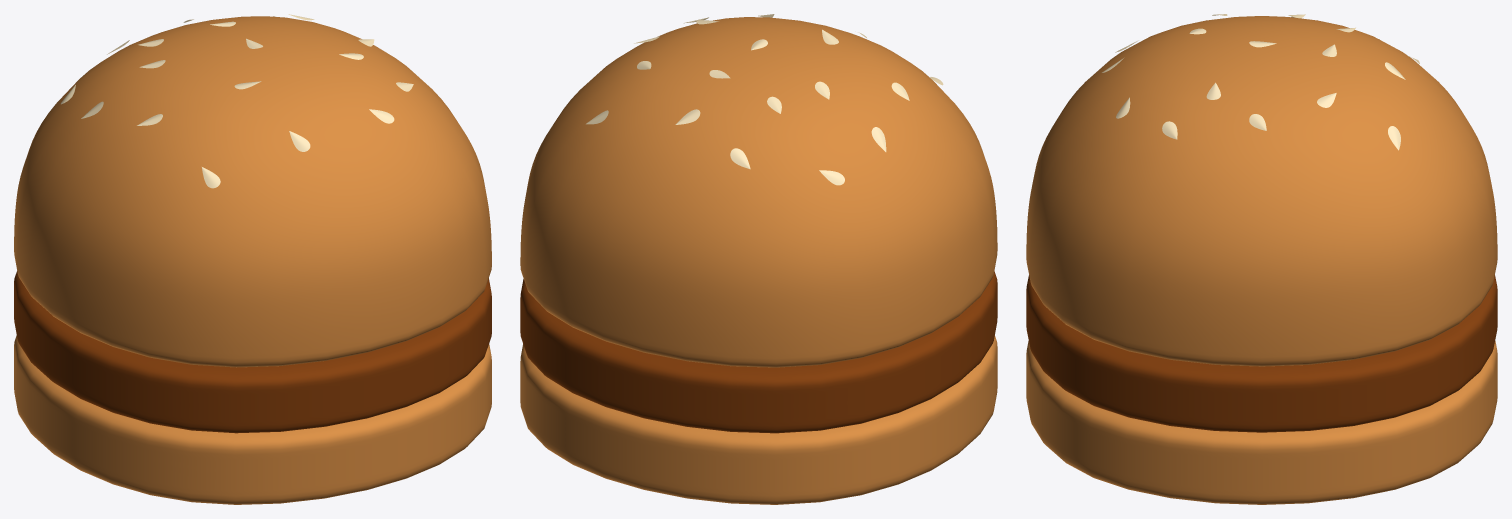
The model's file is burger steak.glb.
3 views of the same model, side by side, from view 1: azimuth 30°, elevation 25°; view 2: azimuth 150°, elevation 25°; view 3: azimuth 270°, elevation 25° (orthographic).
Visible parts, largest first — view 1: Burger steak; view 2: Burger steak; view 3: Burger steak.
Boxes of the visible parts, x1,y1,x2,y2 form: Burger steak: (14, 14, 491, 504); Burger steak: (520, 14, 997, 504); Burger steak: (1026, 14, 1497, 504).
Size of the model in its own units: 1.2 by 1.05 by 1.2.
